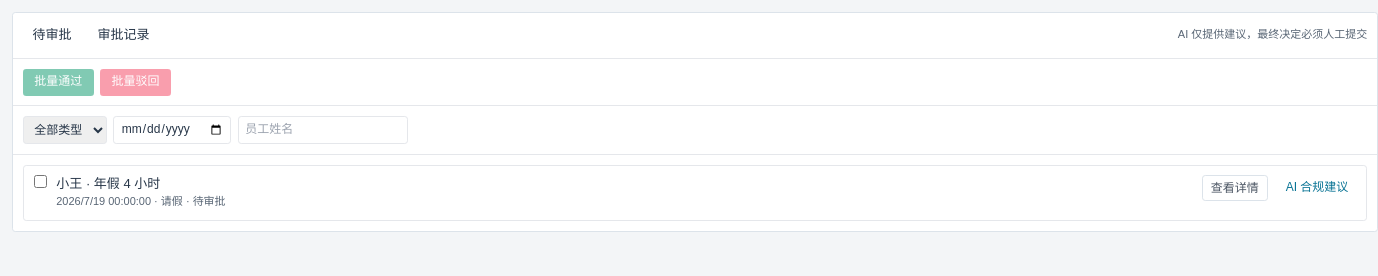
Scenario: refreshes after a stale 409 response
Click the checkbox named "l1" at (40, 182), box [34,175,46,188]
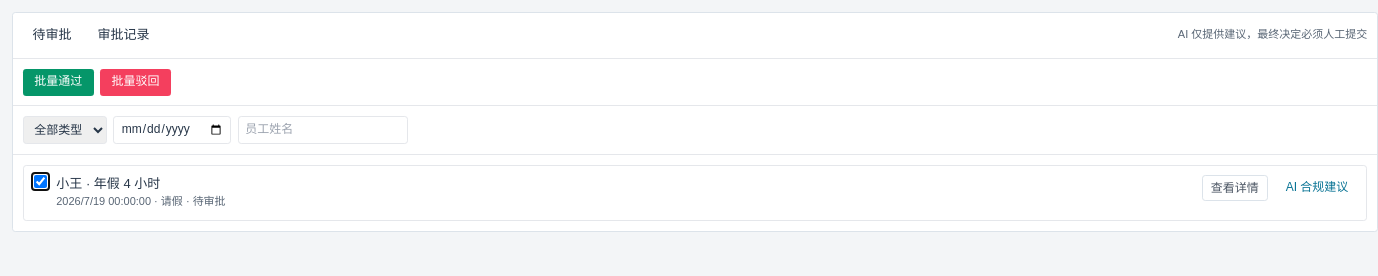
Click the button "批量通过" at (58, 82), box [23,69,94,96]
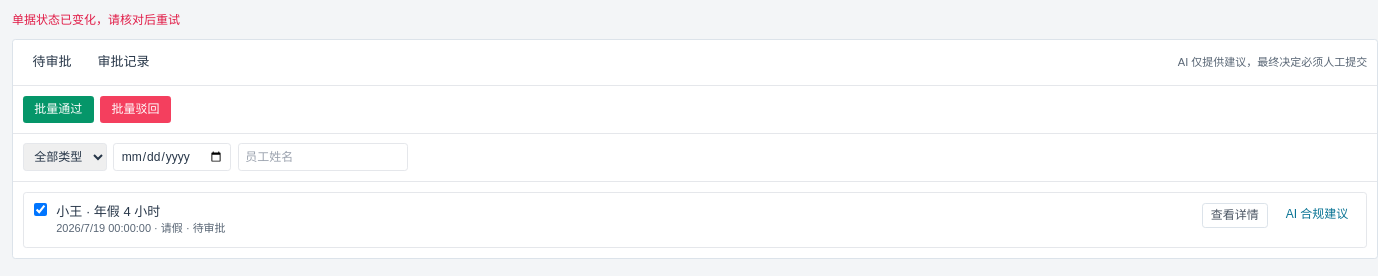
expect the text "单据状态已变化，请核对后重试" is shown: met, box [12,13,180,27]
